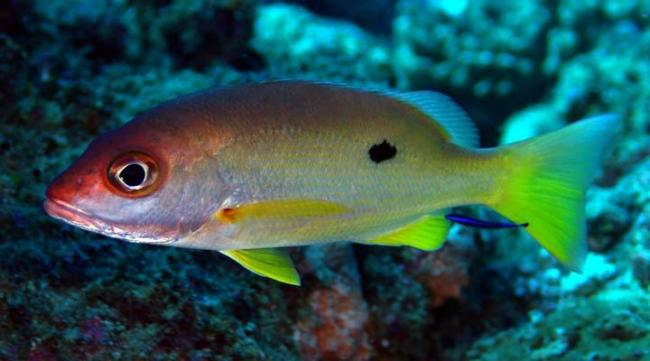fish: (41, 78, 623, 286)
